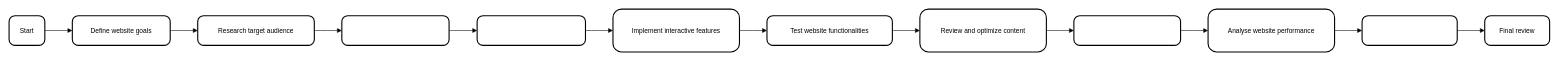
The diagram is 1559 pixels wide and 61 high, and some of its shapes have lost their labels. The centre of each missing label's shape, as x and y in pixels:
"Design user experience" goes at pixel 395 30.
"Develop website layout" goes at pixel 531 30.
"Iterate and improve" goes at pixel 1409 30.
"Perform SEO strategies" goes at pixel 1127 30.
